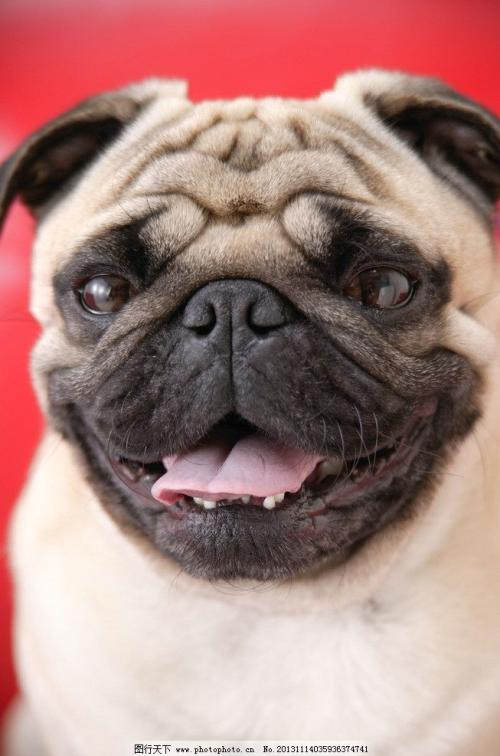dog: (2, 51, 500, 587)
